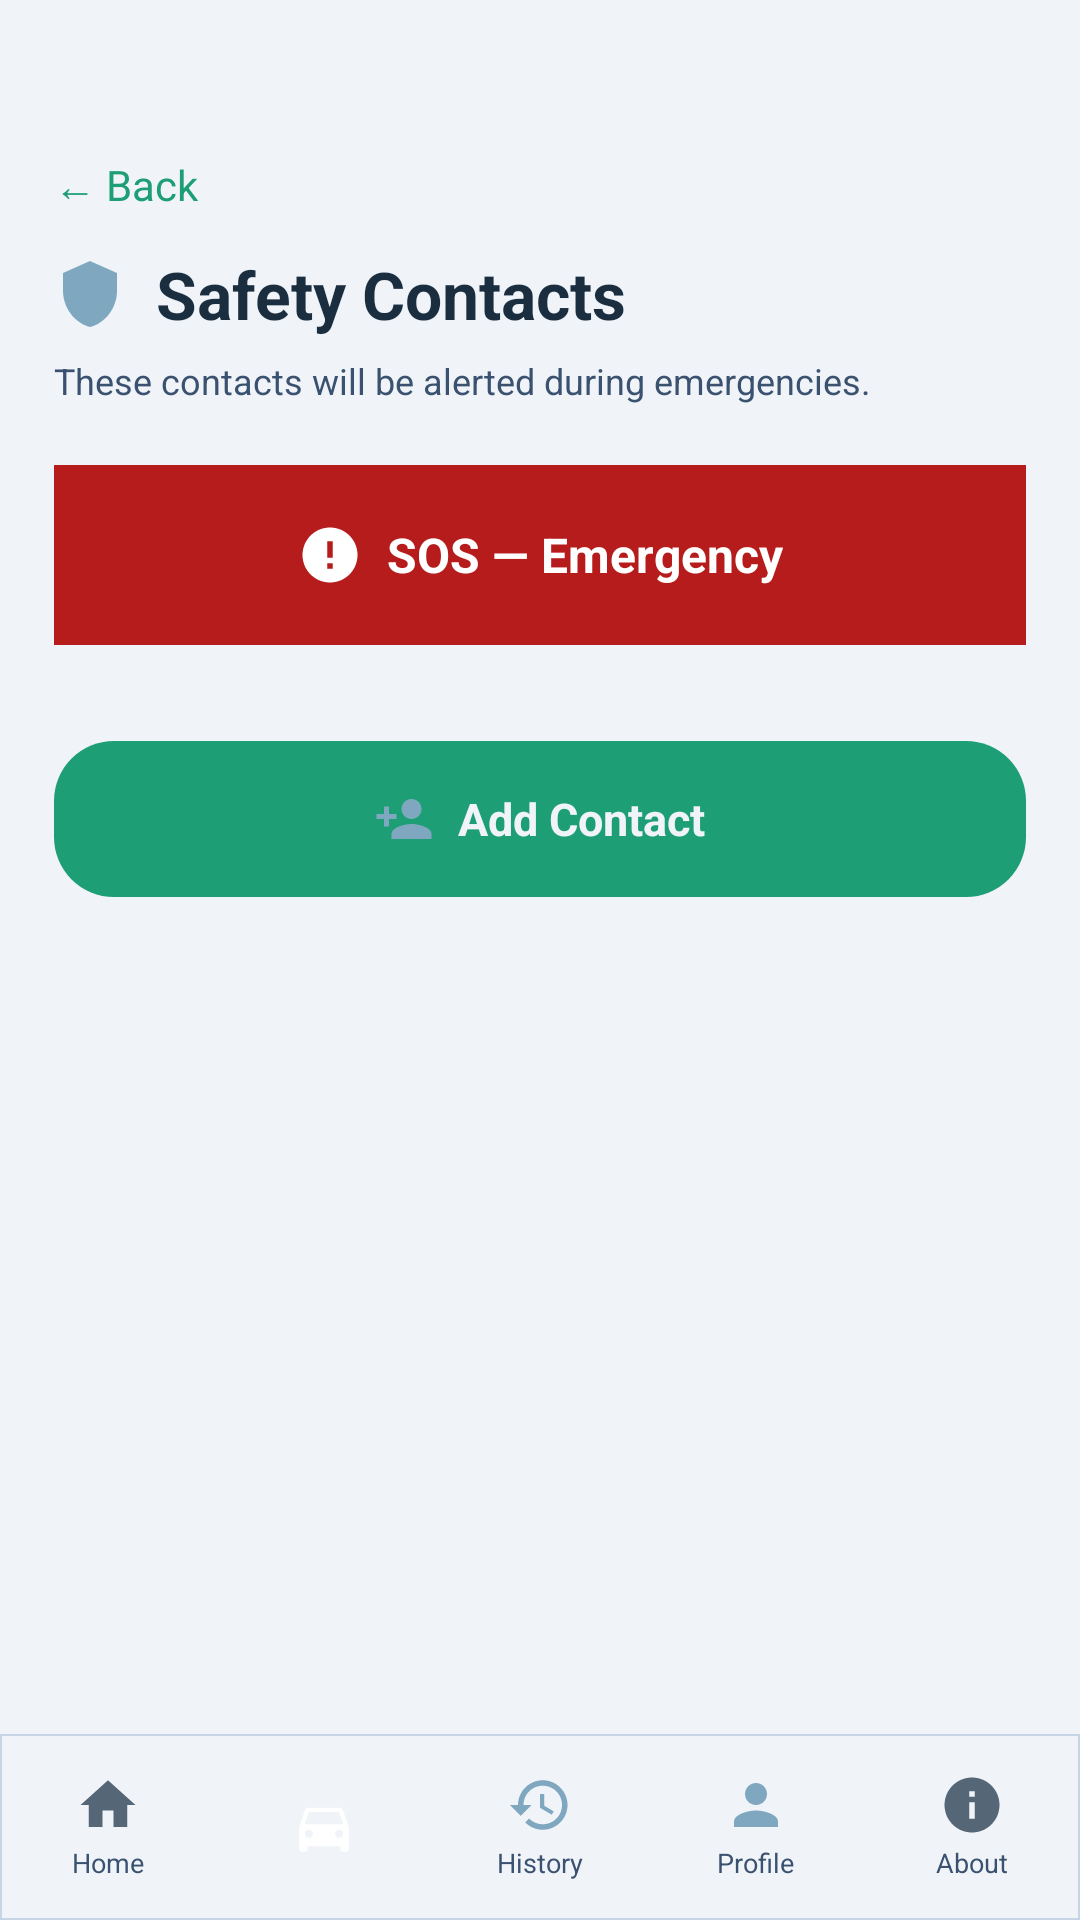

Icons on this 1080px×1920px Android screen, each with its box as BBox(x1, y1, x2, y2):
person: BBox(734, 1783, 778, 1827)
person add: BBox(376, 799, 432, 839)
shield: BBox(63, 261, 117, 327)
